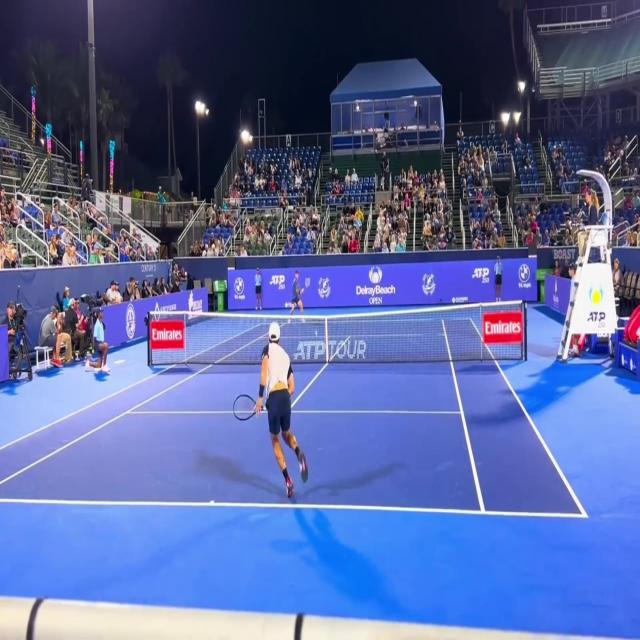tennisBall: (314, 327, 318, 340)
